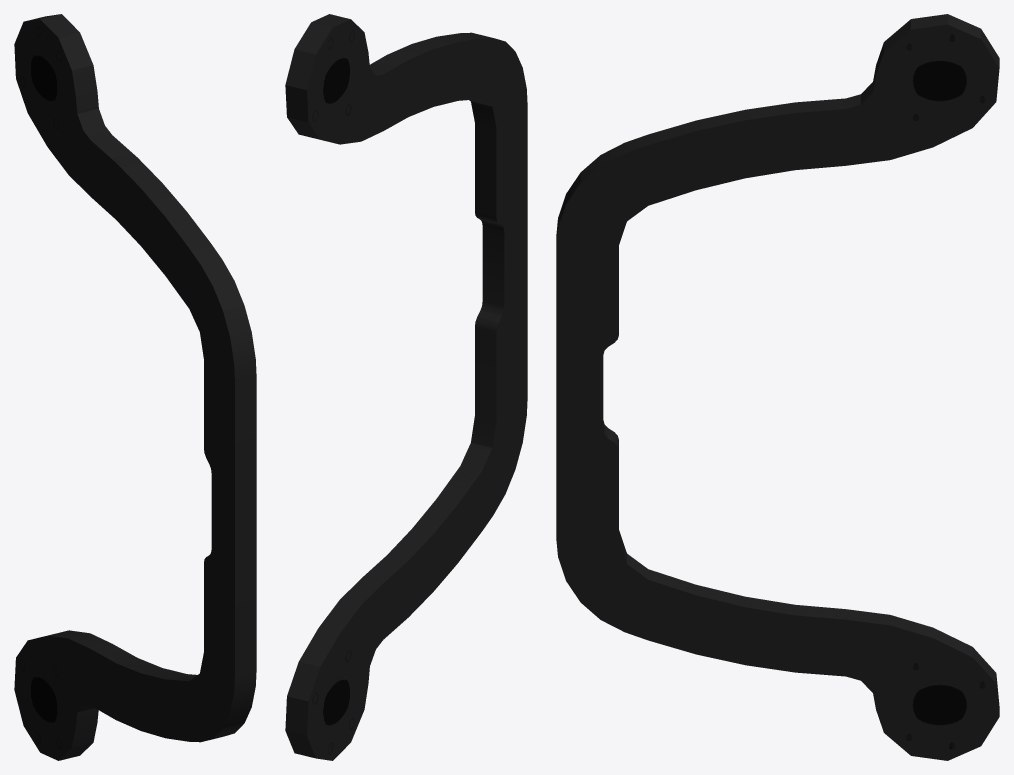
File: lidar_guard.obj
3 views of the same model, side by side, from view 1: azimuth 30°, elevation 25°; view 2: azimuth 150°, elevation 25°; view 3: azimuth 270°, elevation 25° (orthographic).
Size of the model in its own units: 0.008 by 0.2595 by 0.1415.
